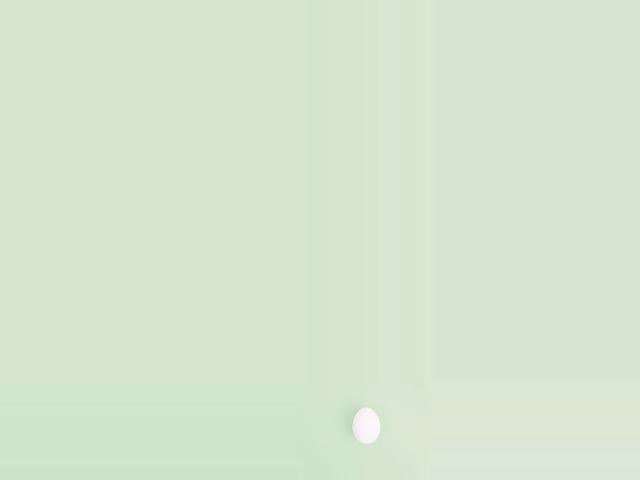egg: (352, 407, 380, 444)
